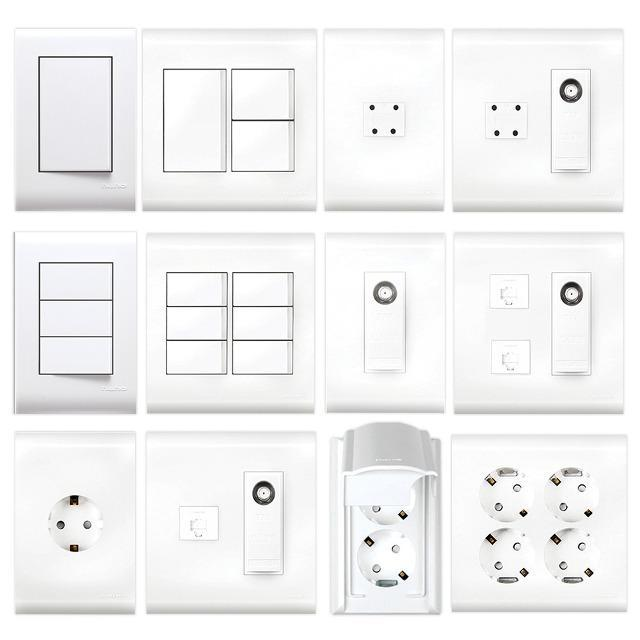typeb: (445, 422, 634, 630), (6, 424, 142, 624)
